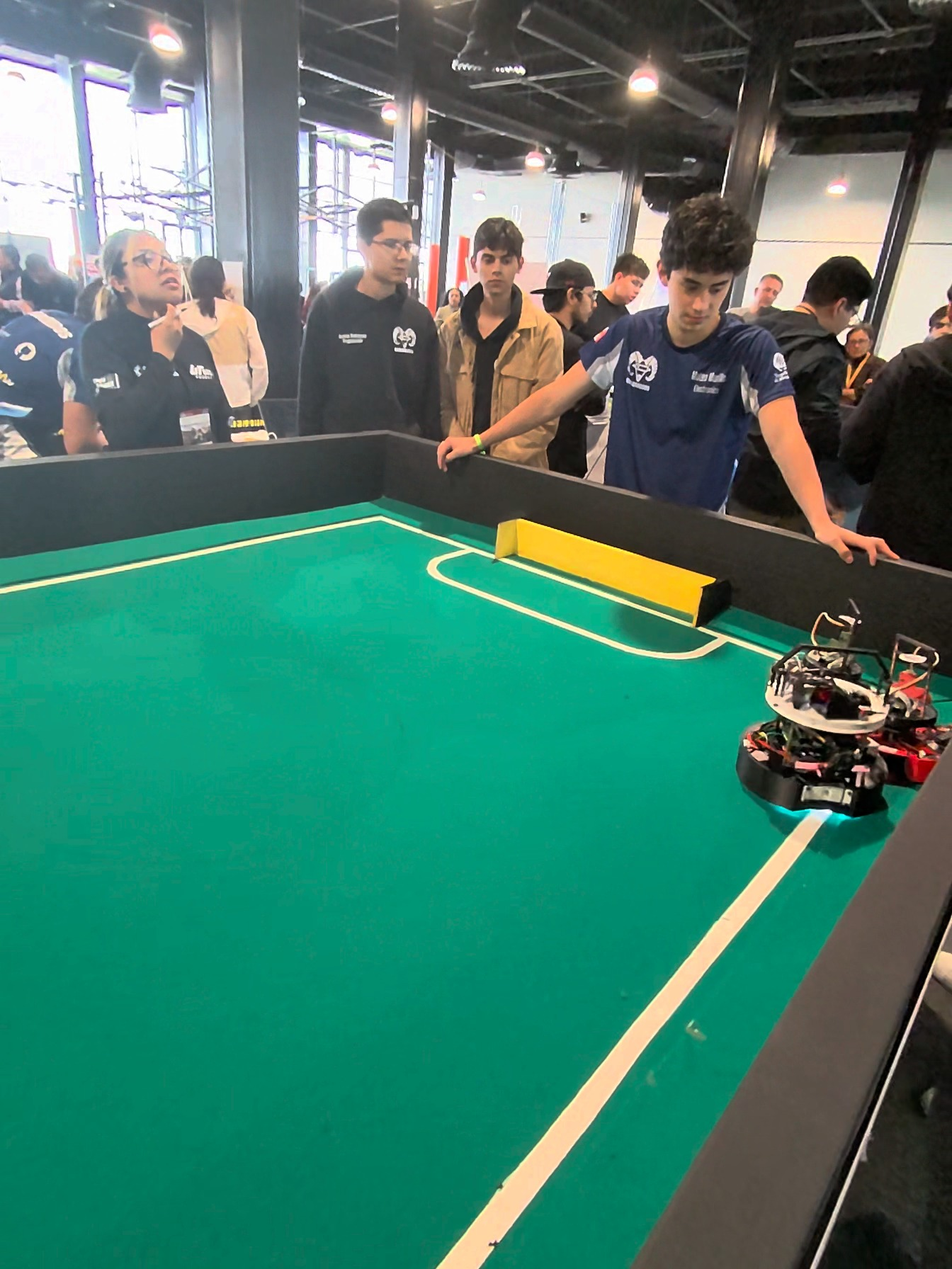Robot: (739, 589, 952, 833), (880, 657, 952, 784)
